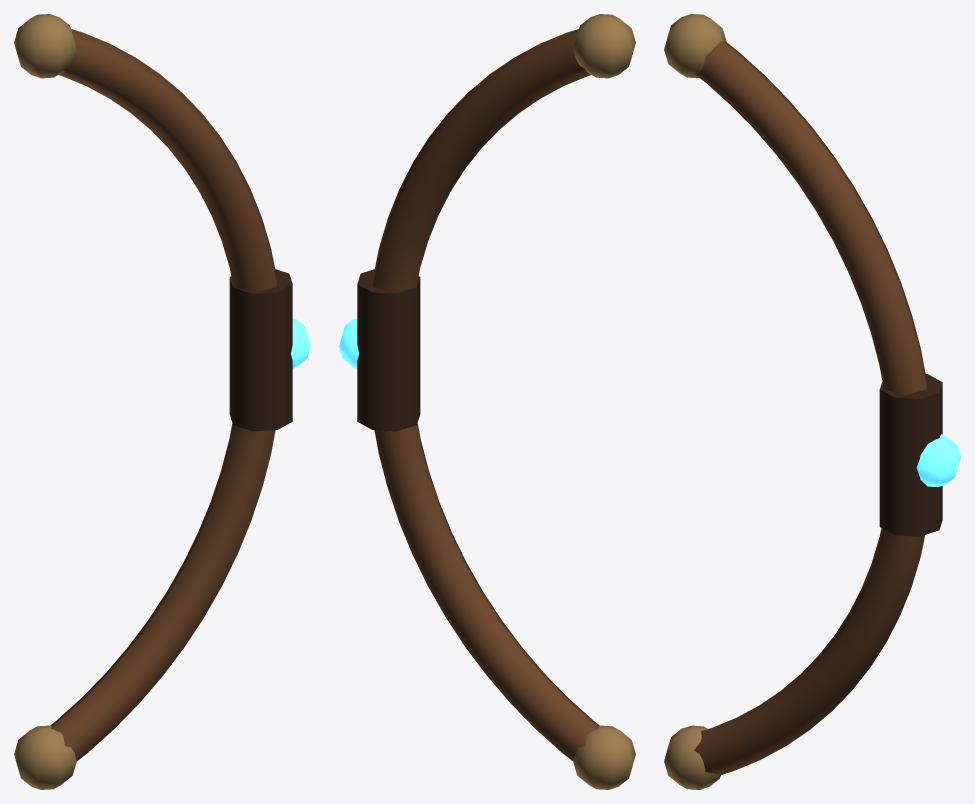
Rendered from bow_f0_27b4c668.glb.
3 renders of one model, left to right at view 1: azimuth 30°, elevation 25°; view 2: azimuth 150°, elevation 25°; view 3: azimuth 330°, elevation 25°, orthographic.
Parts seen in each view (by area): view 1: m0_ow80_, m1_ow80_, m3_ow80_, m2_gm160_; view 2: m0_ow80_, m1_ow80_, m3_ow80_, m2_gm160_; view 3: m0_ow80_, m1_ow80_, m3_ow80_, m2_gm160_.
Part boxes in pixels (x1=…): m0_ow80_: x1=50, y1=29, x2=276, y2=760; m1_ow80_: x1=229, y1=269, x2=292, y2=431; m3_ow80_: x1=14, y1=14, x2=76, y2=789; m2_gm160_: x1=291, y1=318, x2=310, y2=368; m0_ow80_: x1=373, y1=29, x2=599, y2=760; m1_ow80_: x1=357, y1=269, x2=420, y2=431; m3_ow80_: x1=573, y1=14, x2=635, y2=789; m2_gm160_: x1=339, y1=318, x2=358, y2=368; m0_ow80_: x1=694, y1=41, x2=926, y2=774; m1_ow80_: x1=879, y1=374, x2=942, y2=536; m3_ow80_: x1=664, y1=14, x2=726, y2=789; m2_gm160_: x1=916, y1=434, x2=960, y2=486.
Bounding box in the file's own units: 0.6194 × 1.57 × 0.12.
